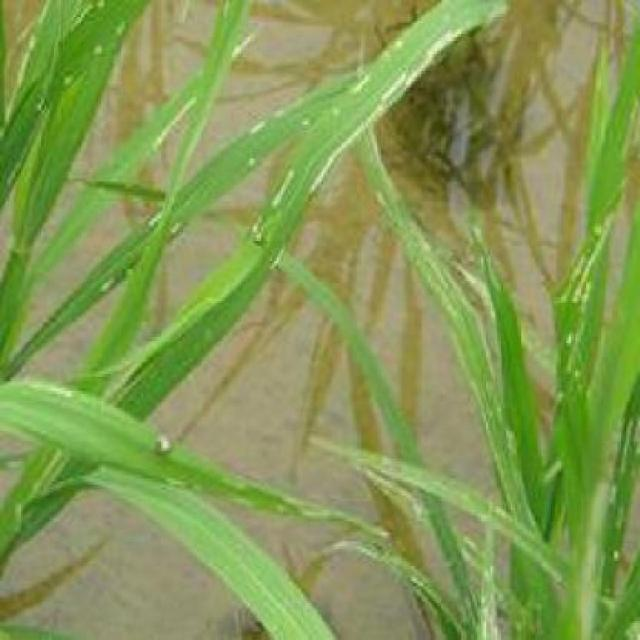rice-bug: (154, 430, 180, 458), (253, 216, 272, 247)
